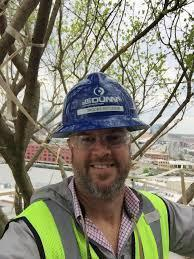helmet: (49, 71, 150, 137)
